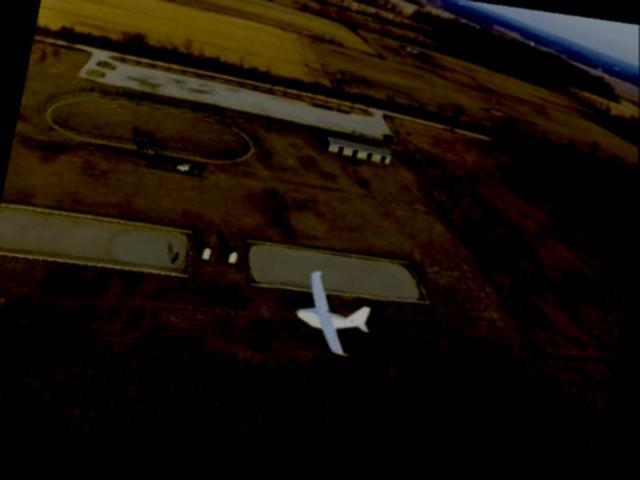uav: (279, 261, 387, 378)
